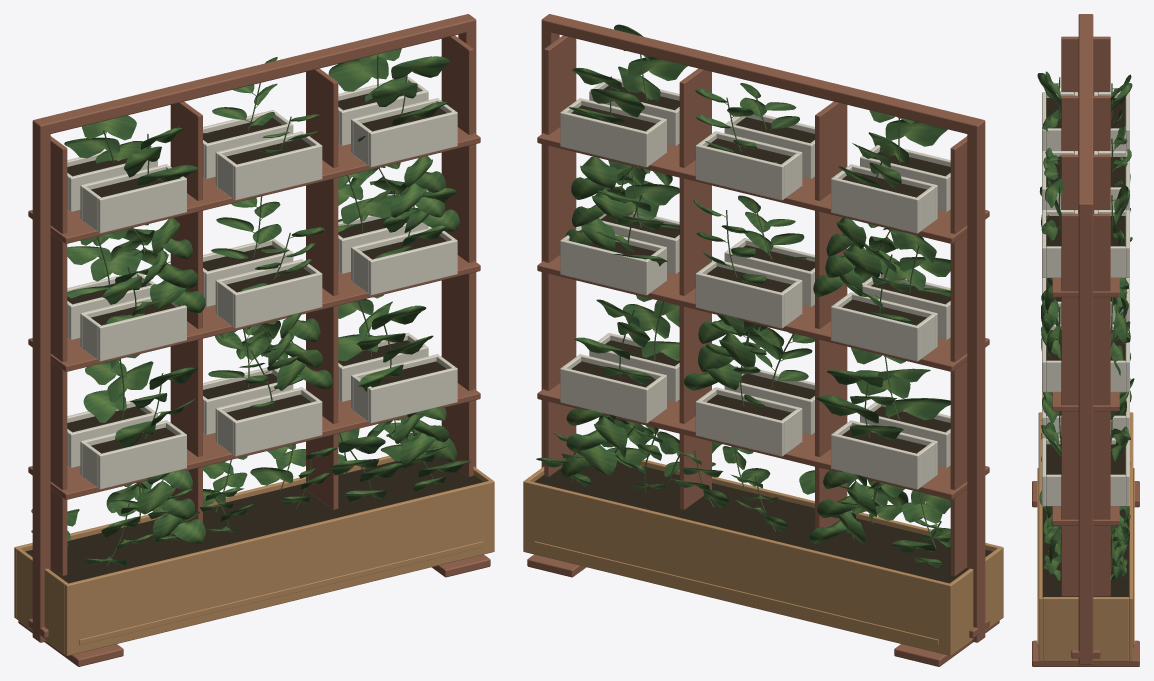
File: botanicalDivider-2.glb
3 renders of one model, left to right at view 1: azimuth 30°, elevation 25°; view 2: azimuth 150°, elevation 25°; view 3: azimuth 270°, elevation 25°, orthographic. The views are drawn at different scales.
Parts seen in each view (by area): view 1: Botanical_powdercoat, Botanical_ceramic, Botanical_living_foliage, Botanical_frame_finish, Botanical_recessed_soil, Botanical_connected_stems, Botanical_leaf_midribs; view 2: Botanical_powdercoat, Botanical_ceramic, Botanical_living_foliage, Botanical_frame_finish, Botanical_recessed_soil, Botanical_connected_stems, Botanical_leaf_midribs; view 3: Botanical_powdercoat, Botanical_living_foliage, Botanical_ceramic, Botanical_frame_finish, Botanical_recessed_soil, Botanical_connected_stems, Botanical_leaf_midribs.
Boxes of the visible parts, x1=… form: Botanical_powdercoat: x1=18, y1=14, x2=490, y2=666; Botanical_ceramic: x1=67, y1=77, x2=457, y2=489; Botanical_living_foliage: x1=31, y1=48, x2=470, y2=565; Botanical_frame_finish: x1=14, y1=453, x2=494, y2=655; Botanical_recessed_soil: x1=25, y1=91, x2=483, y2=583; Botanical_connected_stems: x1=67, y1=55, x2=435, y2=566; Botanical_leaf_midribs: x1=67, y1=54, x2=457, y2=560; Botanical_powdercoat: x1=527, y1=14, x2=999, y2=666; Botanical_ceramic: x1=560, y1=77, x2=950, y2=489; Botanical_living_foliage: x1=536, y1=24, x2=950, y2=567; Botanical_frame_finish: x1=523, y1=459, x2=1003, y2=655; Botanical_recessed_soil: x1=534, y1=85, x2=992, y2=583; Botanical_connected_stems: x1=571, y1=54, x2=941, y2=566; Botanical_leaf_midribs: x1=548, y1=26, x2=948, y2=562; Botanical_powdercoat: x1=1032, y1=14, x2=1139, y2=666; Botanical_living_foliage: x1=1037, y1=71, x2=1134, y2=580; Botanical_ceramic: x1=1042, y1=92, x2=1129, y2=506; Botanical_frame_finish: x1=1037, y1=412, x2=1134, y2=661; Botanical_recessed_soil: x1=1042, y1=98, x2=1129, y2=597; Botanical_connected_stems: x1=1054, y1=77, x2=1117, y2=576; Botanical_leaf_midribs: x1=1041, y1=75, x2=1131, y2=570.
Size of the model in its own units: 2 by 2.3 by 0.4798.
